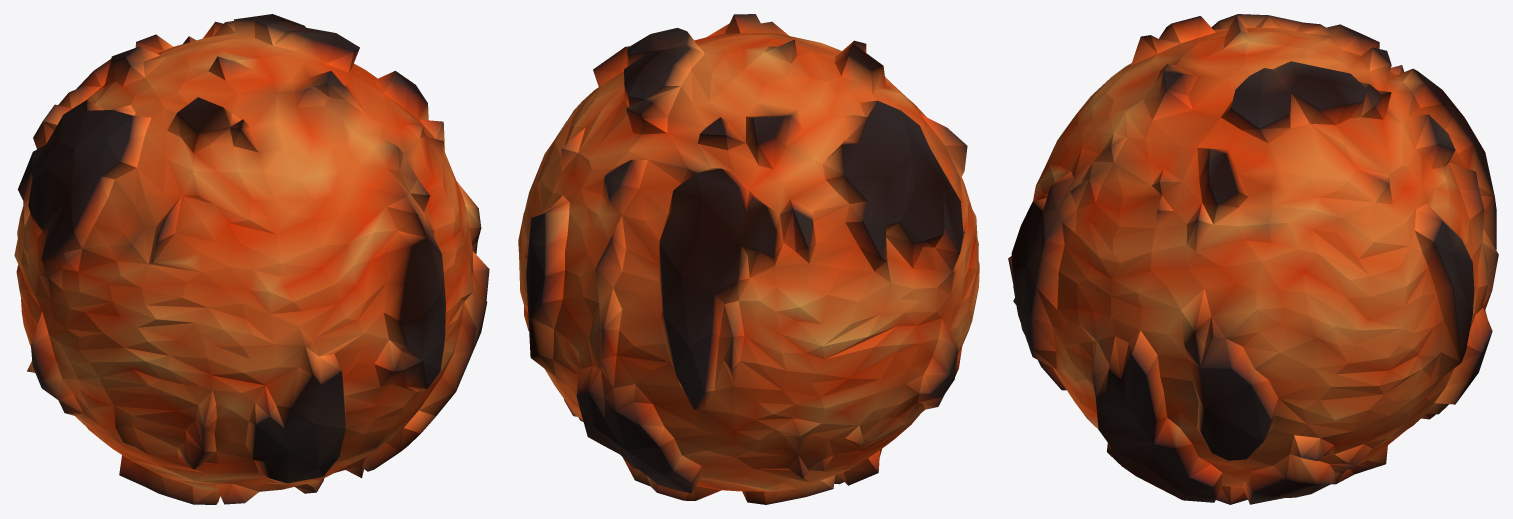
Rendered from barren_15.fbx.
3 views of the same model, side by side, from view 1: azimuth 30°, elevation 25°; view 2: azimuth 150°, elevation 25°; view 3: azimuth 270°, elevation 25° (orthographic).
Parts seen in each view (by area): view 1: filecache1; view 2: filecache1; view 3: filecache1.
Part boxes in pixels (box(x1,y1,x2,y2)): filecache1: box(14, 14, 489, 504); filecache1: box(518, 14, 979, 504); filecache1: box(1008, 14, 1498, 504).
Size of the model in its own units: 2.16 by 2.17 by 2.15.
